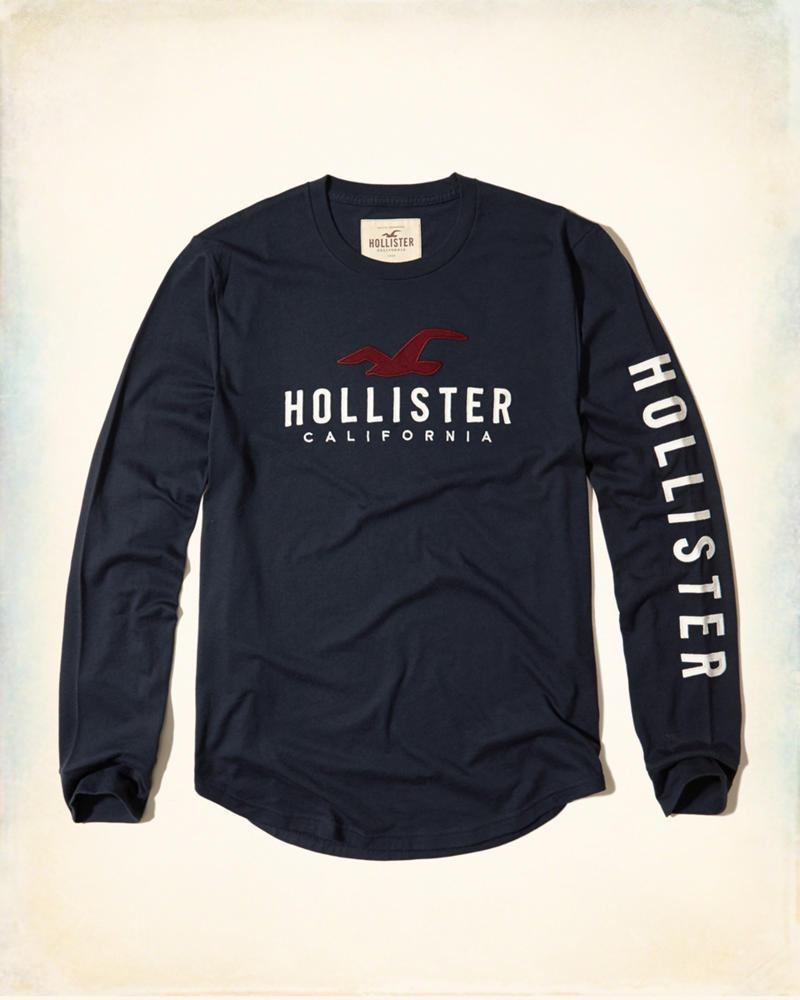teeshirt: (30, 162, 756, 889)
